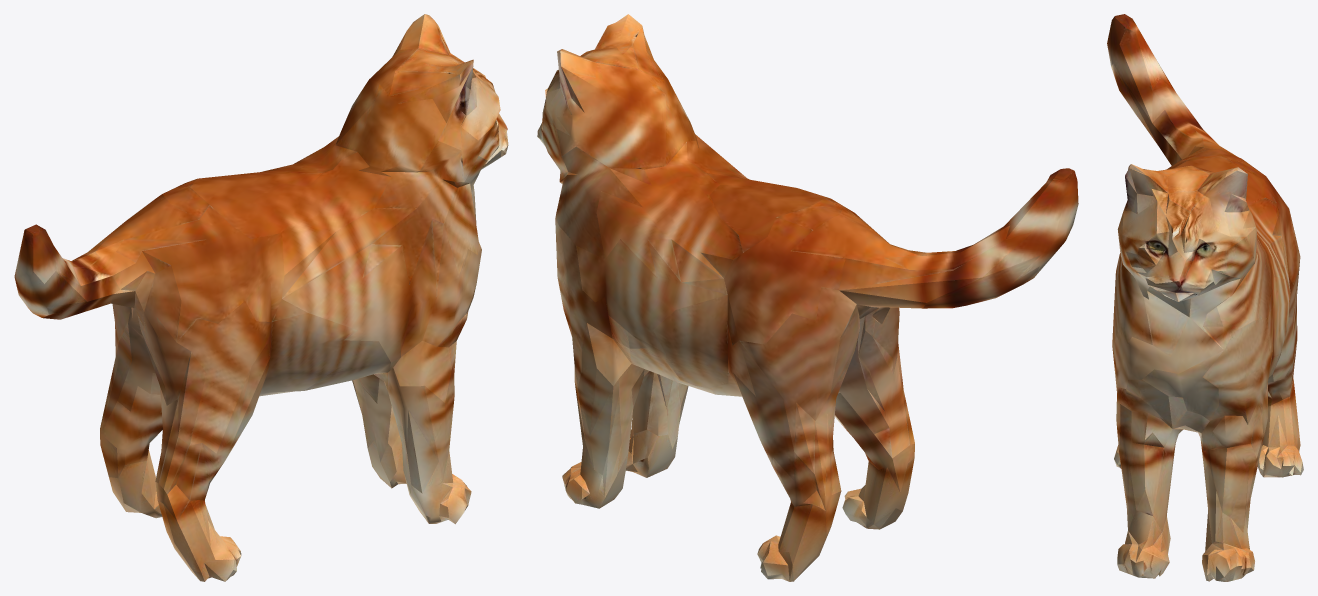
The model's file is FINICKY-lo.glb.
3 views of the same model, side by side, from view 1: azimuth 30°, elevation 25°; view 2: azimuth 150°, elevation 25°; view 3: azimuth 270°, elevation 25° (orthographic). The views are drawn at different scales.
Visible parts, largest first — view 1: output_unwrapped; view 2: output_unwrapped; view 3: output_unwrapped.
Part boxes in pixels (x1,y1,x2,y2): output_unwrapped: (14, 14, 508, 581); output_unwrapped: (537, 14, 1078, 581); output_unwrapped: (1107, 14, 1303, 581).
Bounding box in the file's own units: 1.18 × 1 × 0.4246.
Materials: 1 (1 with a texture image).
